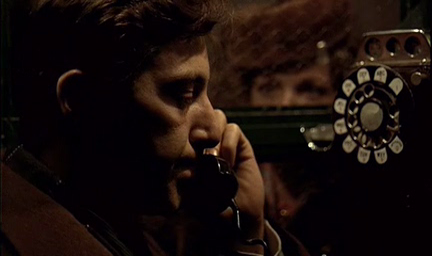cu: (1, 1, 432, 256)
face: (132, 41, 222, 216)
person: (1, 1, 283, 256)
